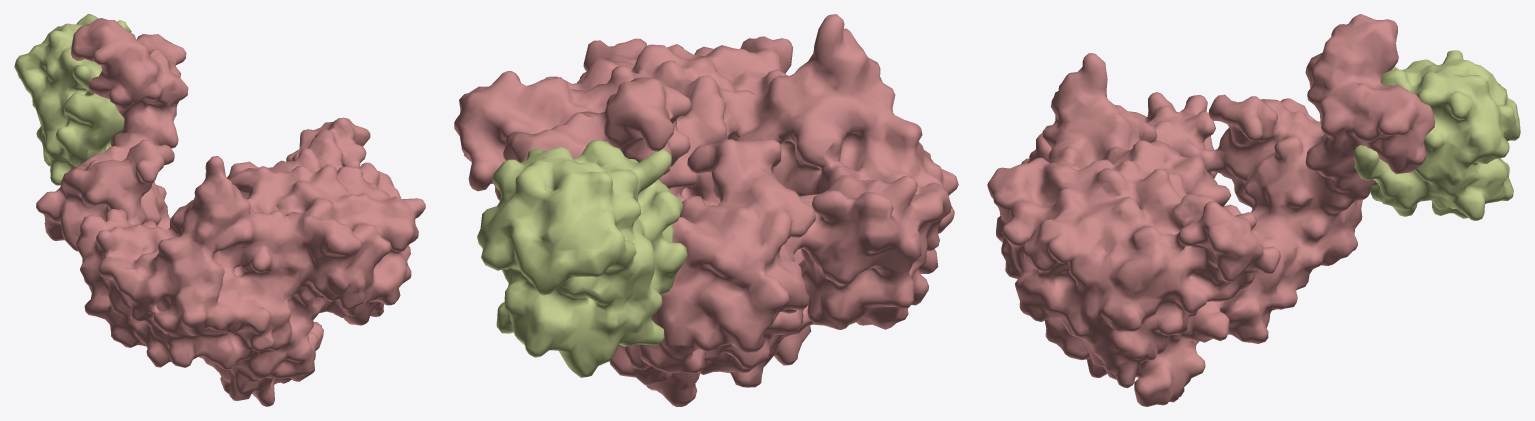
Rendered from polymerase.glb.
3 views of the same model, side by side, from view 1: azimuth 30°, elevation 25°; view 2: azimuth 150°, elevation 25°; view 3: azimuth 270°, elevation 25° (orthographic). The views are drawn at different scales.
Visible parts, largest first — view 1: polymerase; view 2: polymerase; view 3: polymerase.
Part boxes in pixels (x1=…): polymerase: x1=14, y1=14, x2=425, y2=406; polymerase: x1=454, y1=14, x2=958, y2=406; polymerase: x1=987, y1=14, x2=1520, y2=406.
Size of the model in its own units: 8.23 by 7.98 by 11.08.
